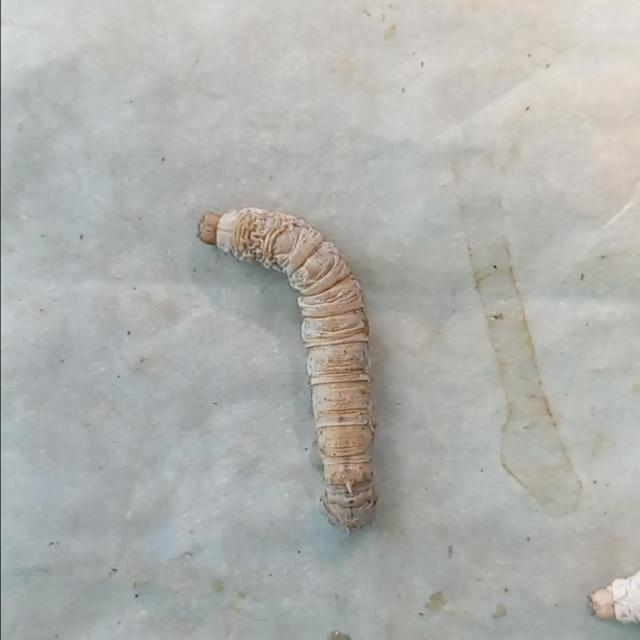Grasserie: (164, 184, 434, 558)
